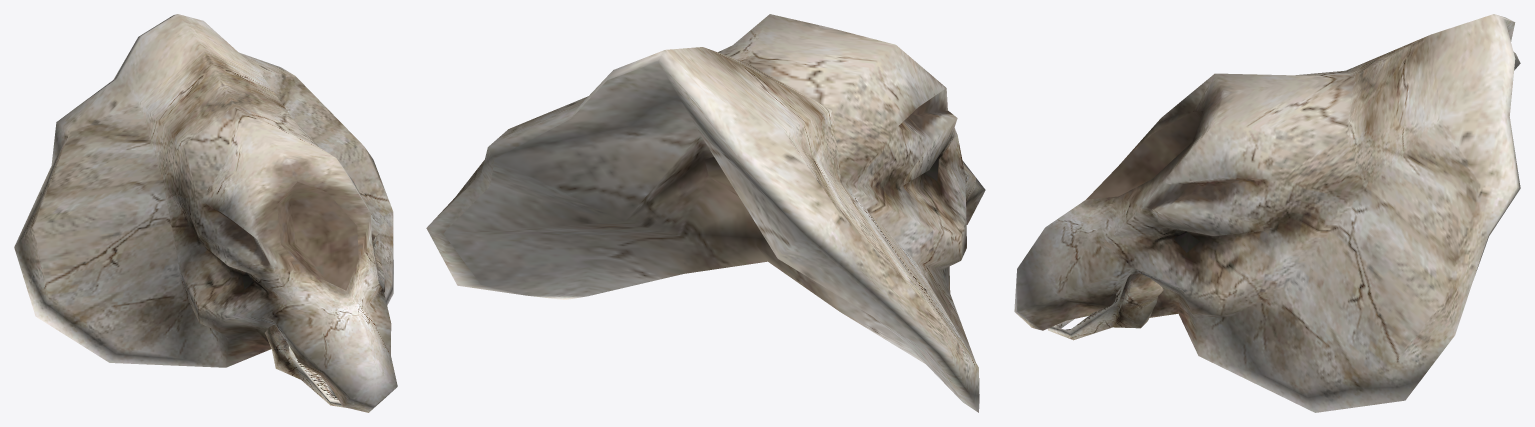
The model's file is thm_dant_thune_skull_l1.fbx.
The picture shows the model from 3 angles, left to right: view 1: azimuth 30°, elevation 25°; view 2: azimuth 150°, elevation 25°; view 3: azimuth 270°, elevation 25°; orthographic projection. The views are drawn at different scales.
Parts seen in each view (by area): view 1: mesh_node; view 2: mesh_node; view 3: mesh_node.
Part boxes in pixels (box(x1,y1,x2,y2)): mesh_node: box(14, 14, 397, 412); mesh_node: box(426, 14, 985, 412); mesh_node: box(1014, 14, 1520, 412).
Bounding box in the file's own units: 1.91 × 1.33 × 1.92.
Materials: 1 (1 with a texture image).
